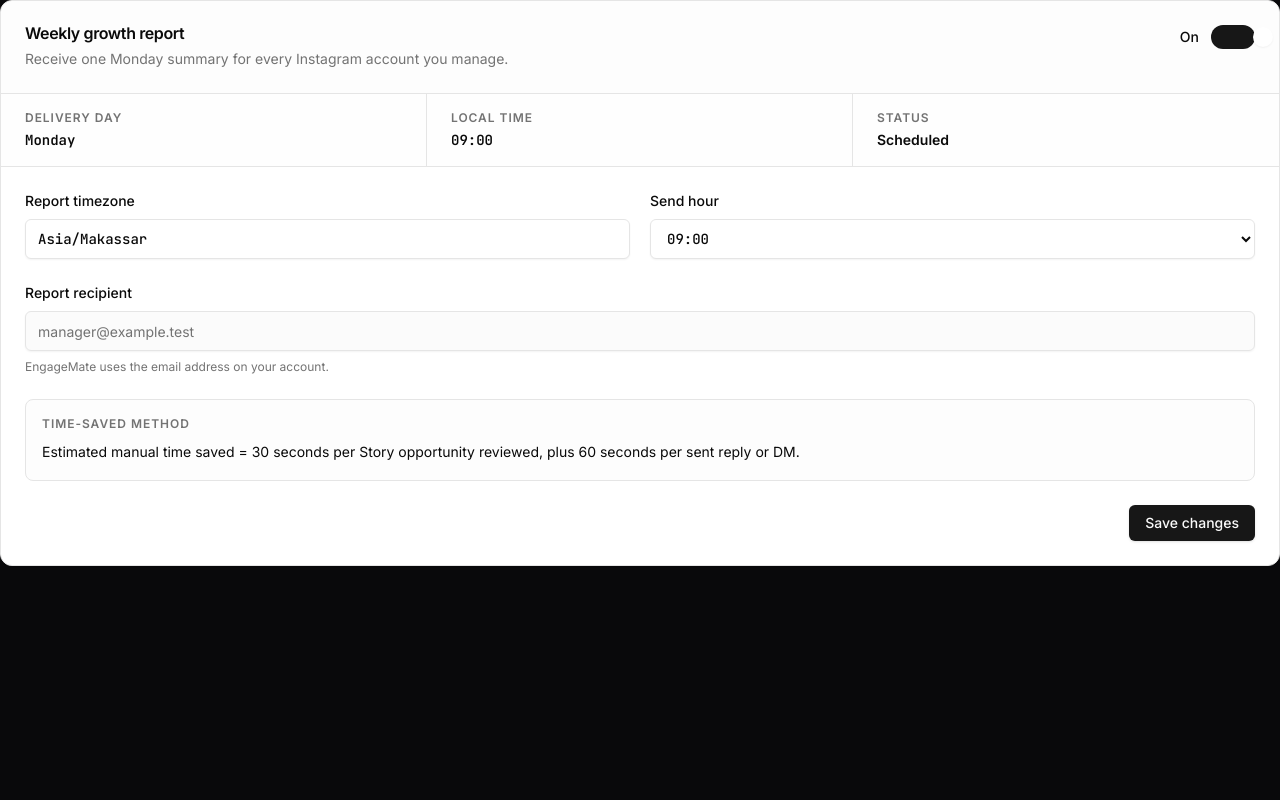
Test case: WeeklyReportSettings › shows validation guidance for an invalid preference response (400)
Click the button "Save changes".
click(1192, 523)  # box x1=1129 y1=505 x2=1255 y2=541
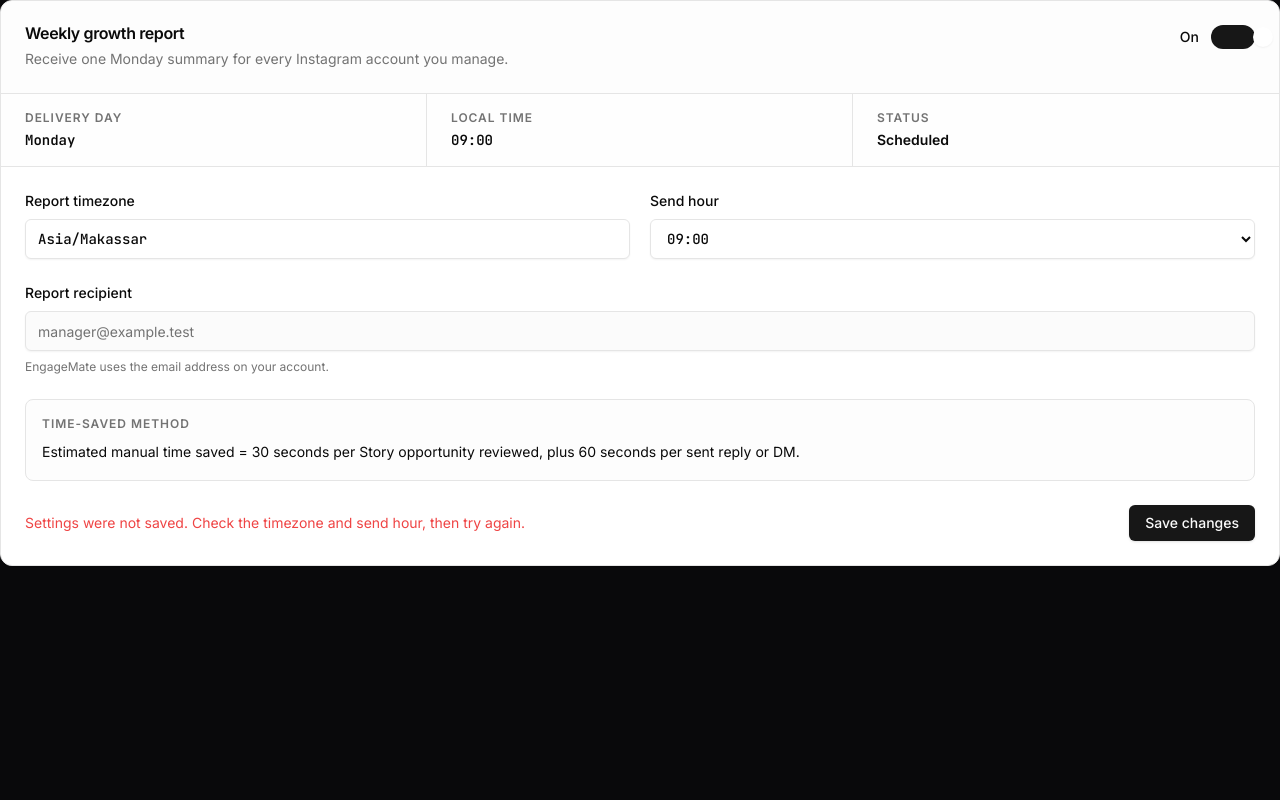
Expected: the message reads "Settings were not saved. Check the timezone and send hour, then try again.", x1=25 y1=514 x2=525 y2=531
